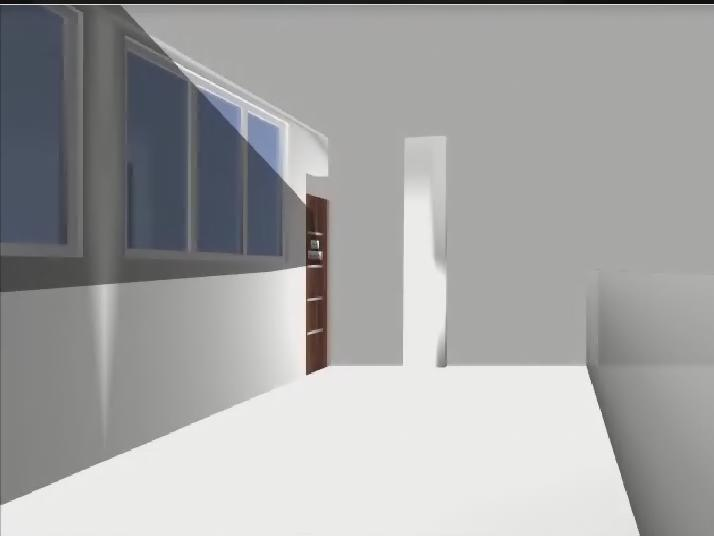door: (307, 194, 328, 376)
